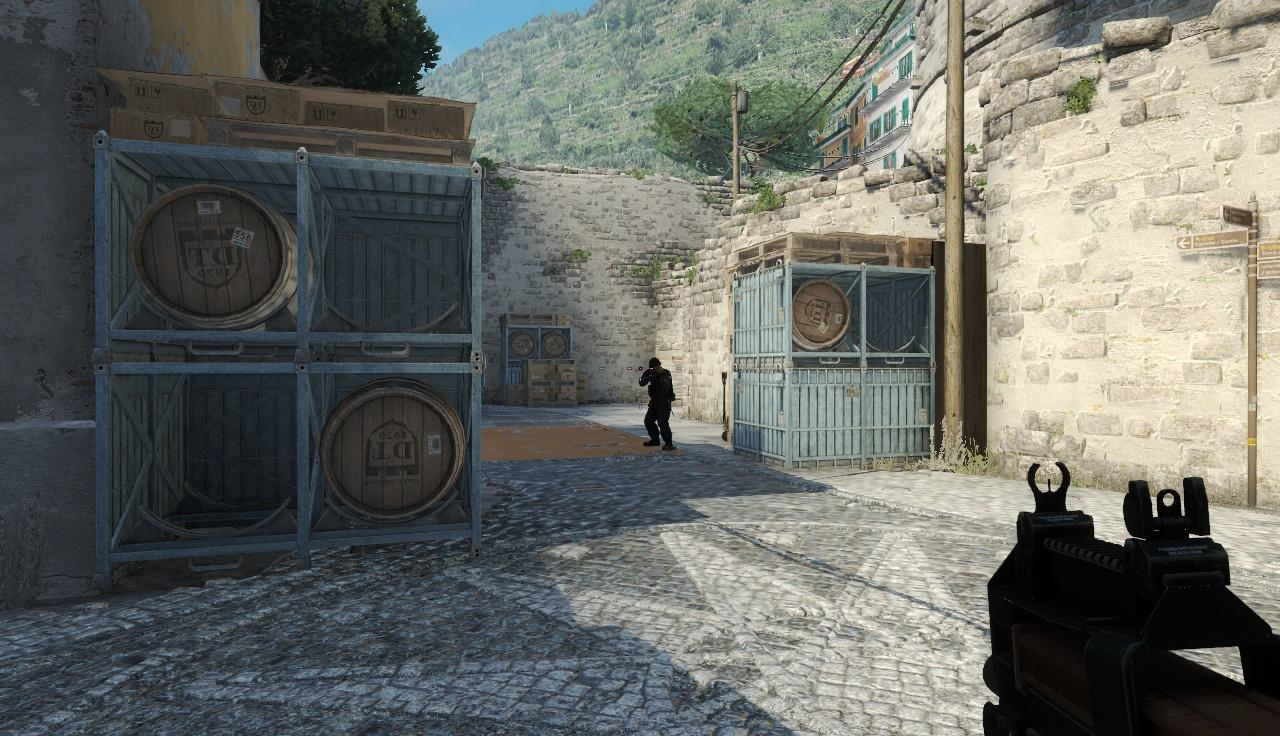ct: (646, 357, 673, 447)
cthead: (647, 358, 663, 374), (647, 358, 662, 374)
rifle: (991, 470, 1280, 736)
